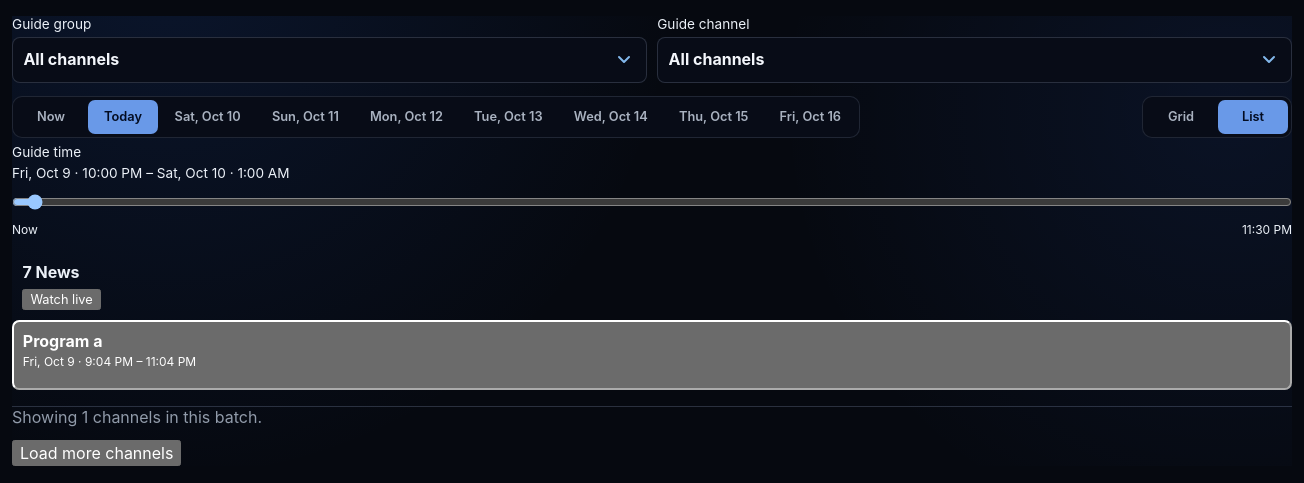
rejects a stale snapshot instead of mixing generations
This screenshot has width=1304, height=483.
Click the button "Load more channels" at (97, 453), box [12,440,181,466]
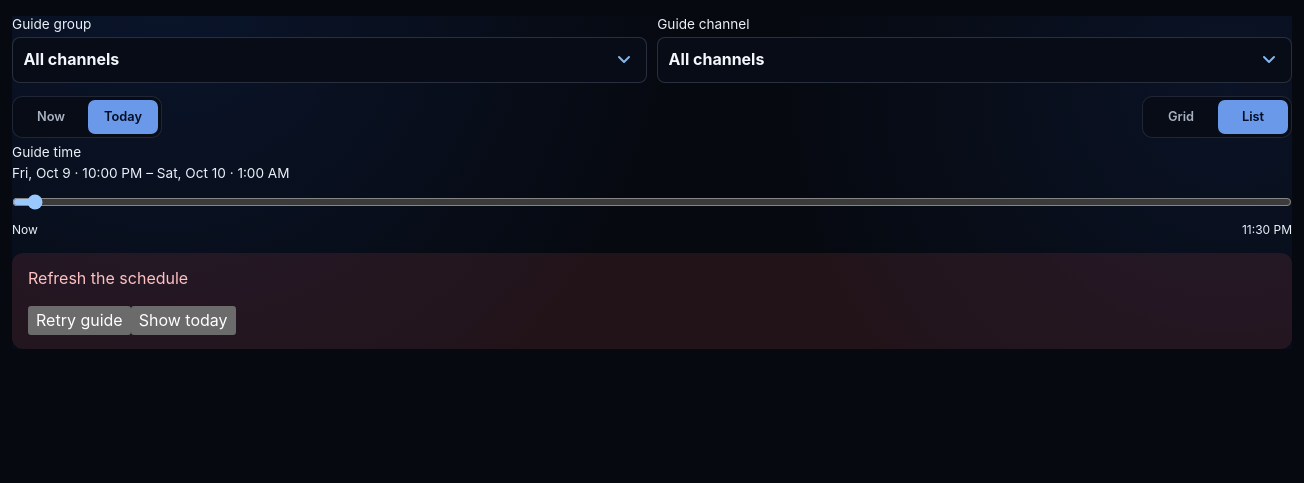
Now the message shows "Refresh the schedule", box [28,268,188,288]
